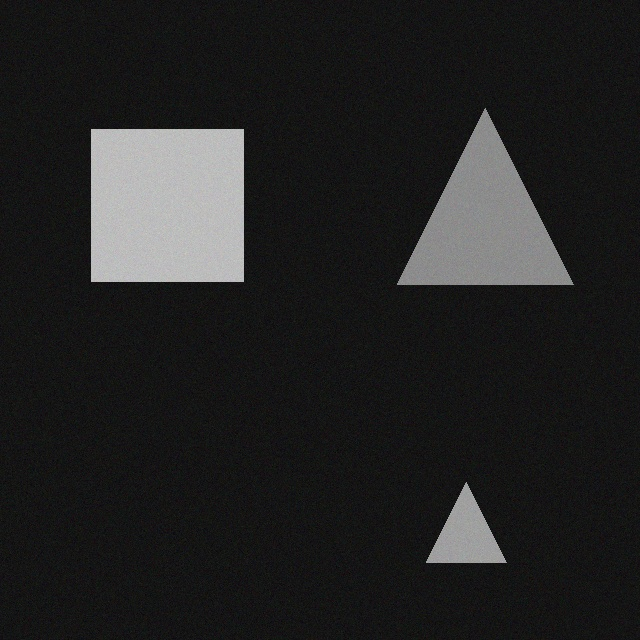square: (101, 125, 253, 277)
triangle: (407, 104, 583, 280), (436, 478, 516, 558)
